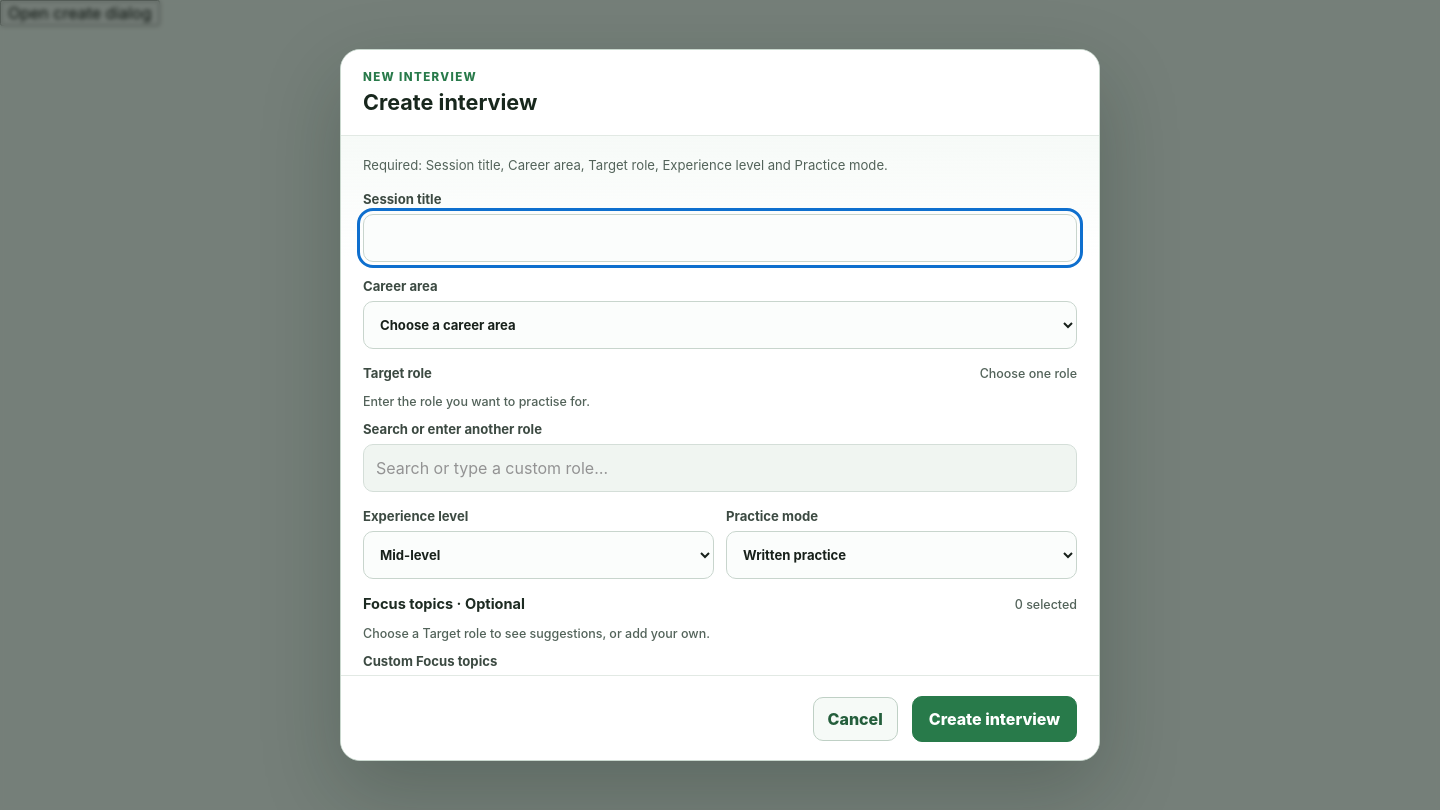
Scenario: InterviewCreateDialog › clears a system-owned title and target role when career area changes
This screenshot has width=1440, height=810.
Step 1. Select "Finance & Accounting" in the dropdown labelled "Career area" → (720, 325), box [363, 301, 1077, 349]
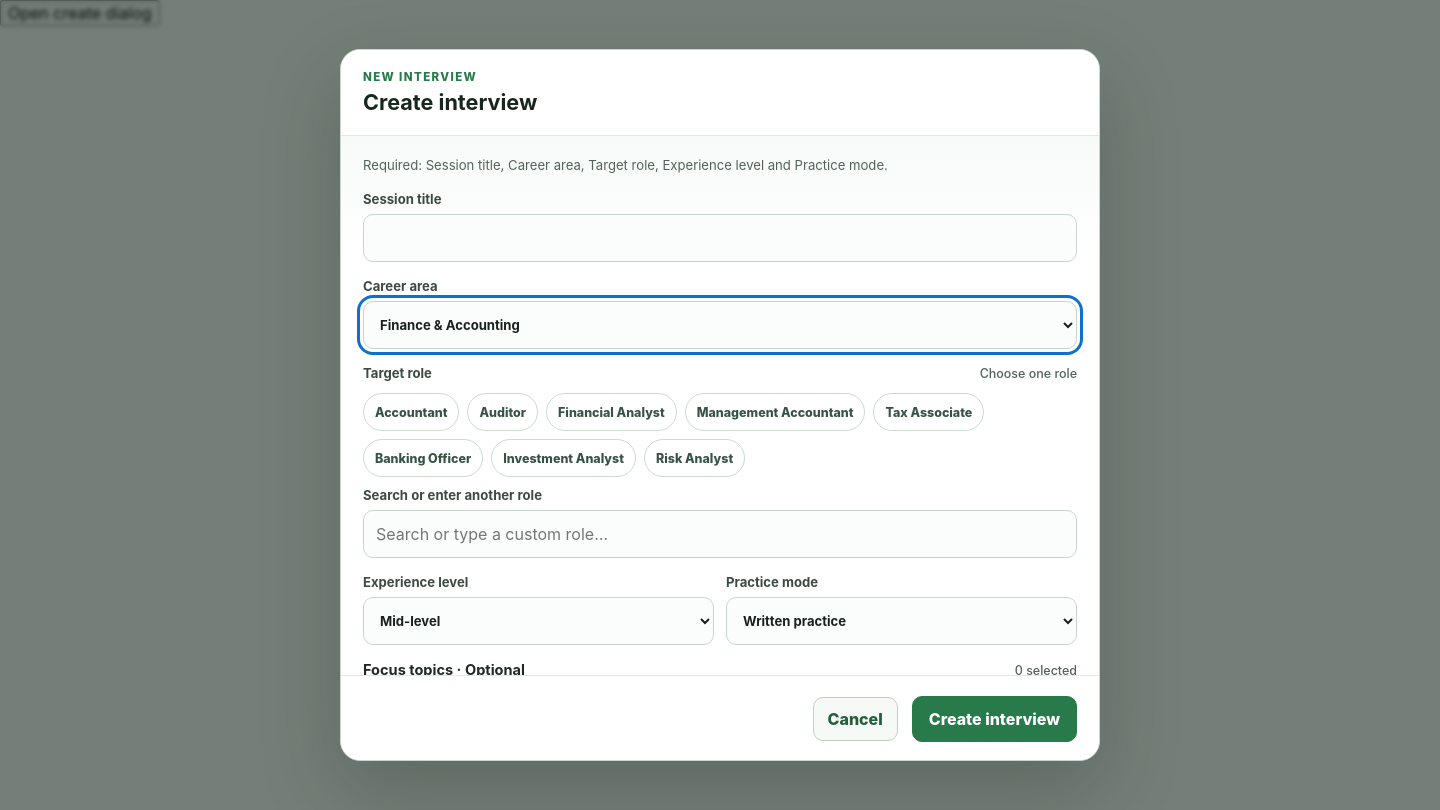
Step 2. Click the button "Auditor" → (503, 412), box [468, 393, 538, 431]
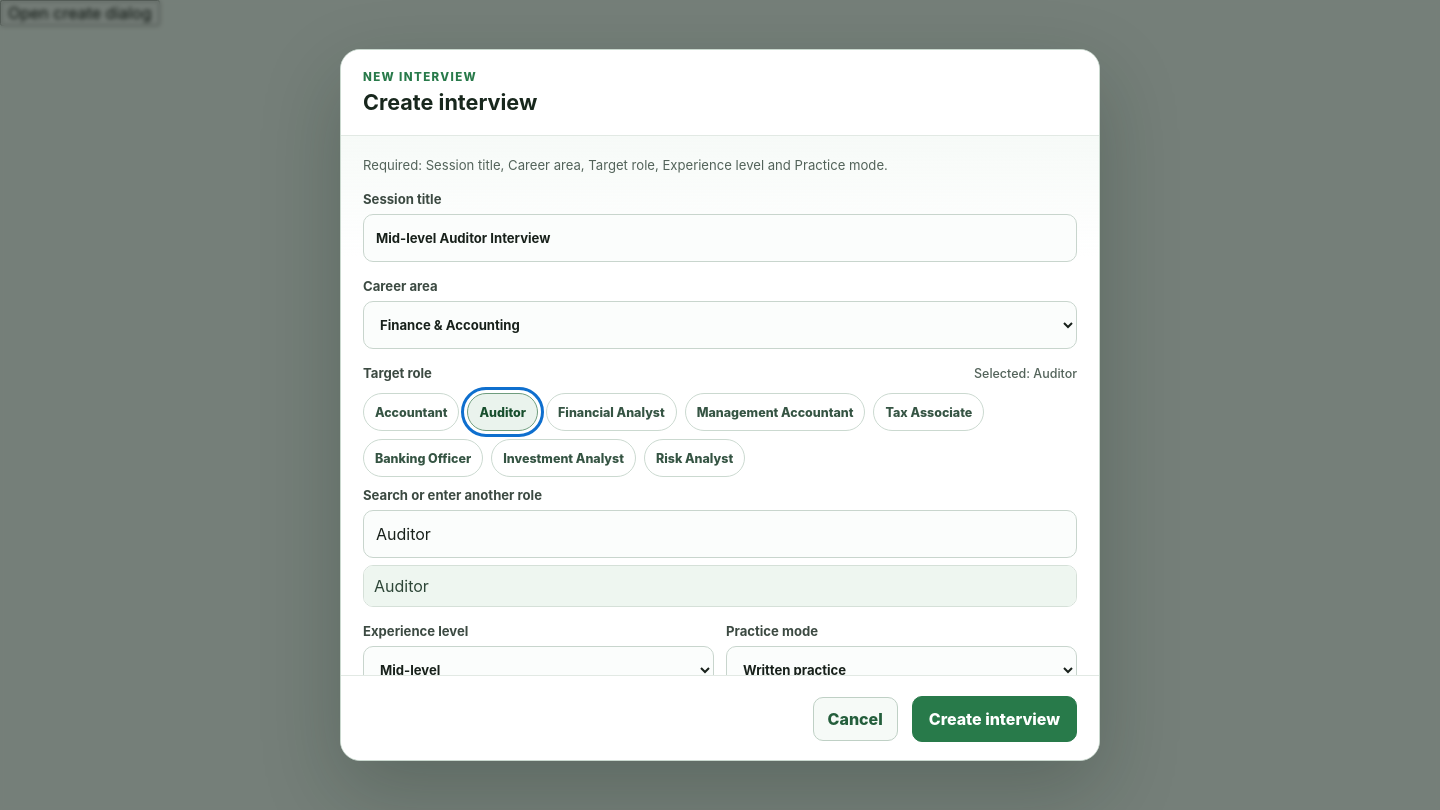
Step 3. Select "Engineering" in the dropdown labelled "Career area" → (720, 325), box [363, 301, 1077, 349]
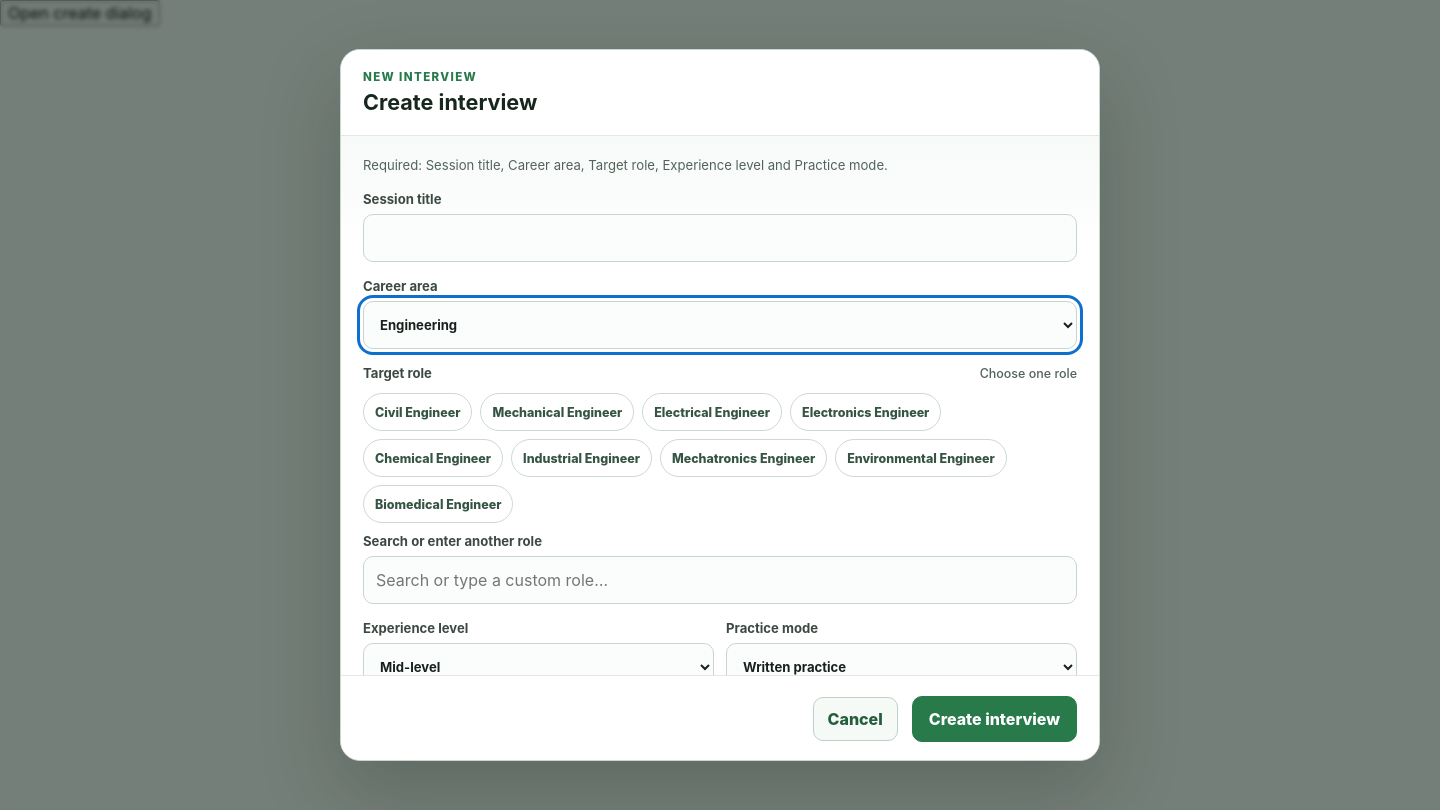
Expected: the button "Civil Engineer" is shown, [363, 393, 472, 431]
